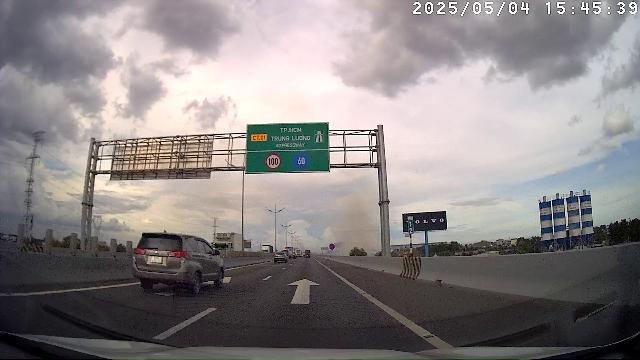127-toc-do-toi-da-100: (266, 153, 282, 170)
306-toc-do-toi-thieu-60: (294, 153, 310, 170)
437-bat-dau-duong-cao-toc: (314, 128, 326, 144)
